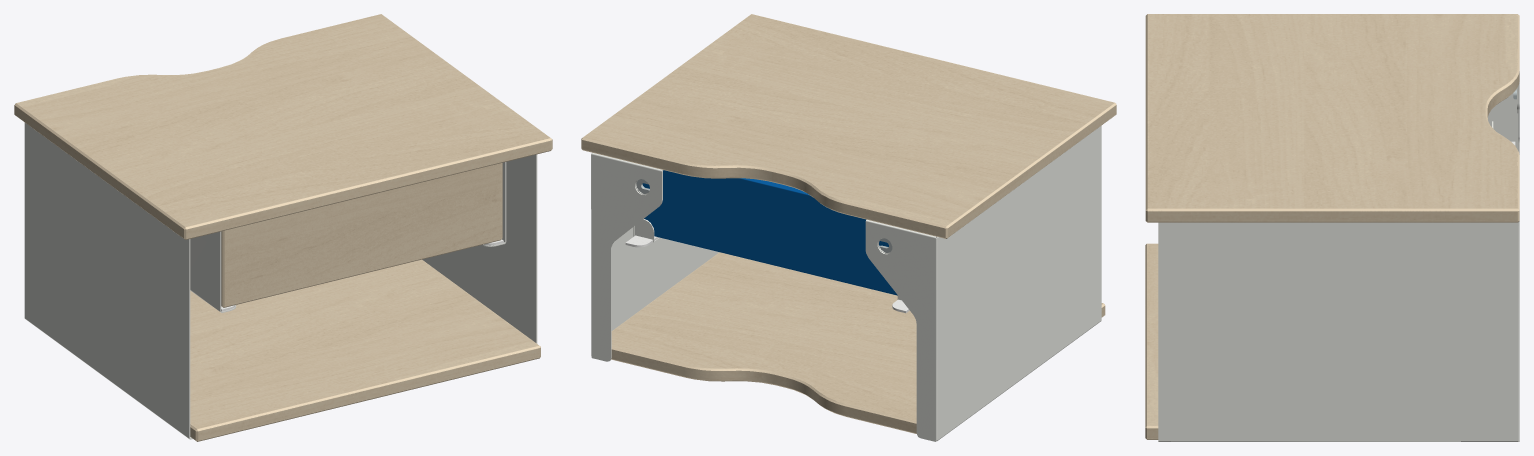
The picture shows the model from 3 angles, left to right: view 1: azimuth 30°, elevation 25°; view 2: azimuth 150°, elevation 25°; view 3: azimuth 270°, elevation 25°; orthographic projection. The views are drawn at different scales.
Visible parts, largest first — view 1: ASY_ART_70567805_S01_NV01, ASY_LPT01_70567805_S01_NV01; view 2: ASY_ART_70567805_S01_NV01, ASY_LPT01_70567805_S01_NV01; view 3: ASY_ART_70567805_S01_NV01.
Boxes of the visible parts, box(x1,y1,x2,y2) form: ASY_ART_70567805_S01_NV01: box(14, 14, 552, 441); ASY_LPT01_70567805_S01_NV01: box(221, 163, 502, 307); ASY_ART_70567805_S01_NV01: box(581, 14, 1116, 441); ASY_LPT01_70567805_S01_NV01: box(636, 170, 897, 295); ASY_ART_70567805_S01_NV01: box(1145, 14, 1519, 441).
Size of the model in its own units: 0.36 by 0.2046 by 0.2903.
2 materials, 2 textured.
